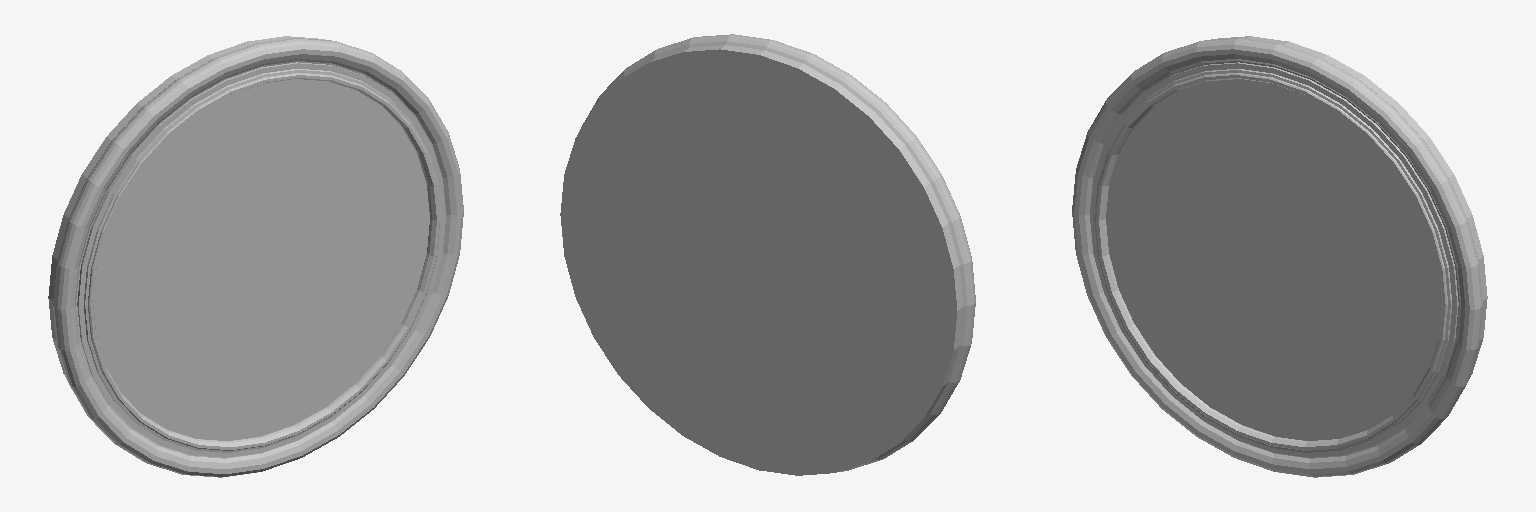
Rendered from clock_june-18.obj.
3 renders of one model, left to right at view 1: azimuth 30°, elevation 25°; view 2: azimuth 150°, elevation 25°; view 3: azimuth 330°, elevation 25°, orthographic.
Visible parts, largest first — view 1: clock_arrow_hours_low_clock_arrow_hours_low.001_Cylinder.002_cl; view 2: clock_arrow_hours_low_clock_arrow_hours_low.001_Cylinder.002_cl; view 3: clock_arrow_hours_low_clock_arrow_hours_low.001_Cylinder.002_cl.
Boxes of the visible parts, x1=… form: clock_arrow_hours_low_clock_arrow_hours_low.001_Cylinder.002_cl: x1=48, y1=36, x2=463, y2=477; clock_arrow_hours_low_clock_arrow_hours_low.001_Cylinder.002_cl: x1=560, y1=34, x2=975, y2=475; clock_arrow_hours_low_clock_arrow_hours_low.001_Cylinder.002_cl: x1=1072, y1=36, x2=1487, y2=477.
Bounding box in the file's own units: 0.4 × 0.4 × 0.0308.